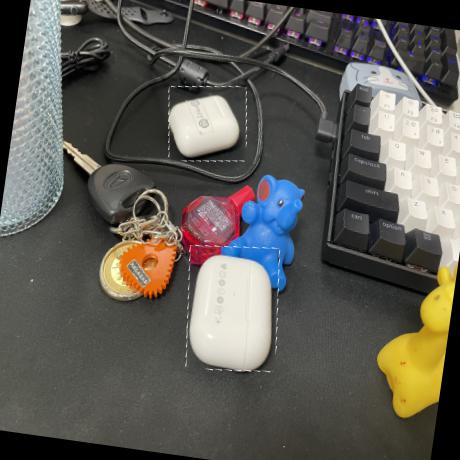airpod2: (161, 80, 253, 168)
airpod3: (176, 238, 288, 377)
